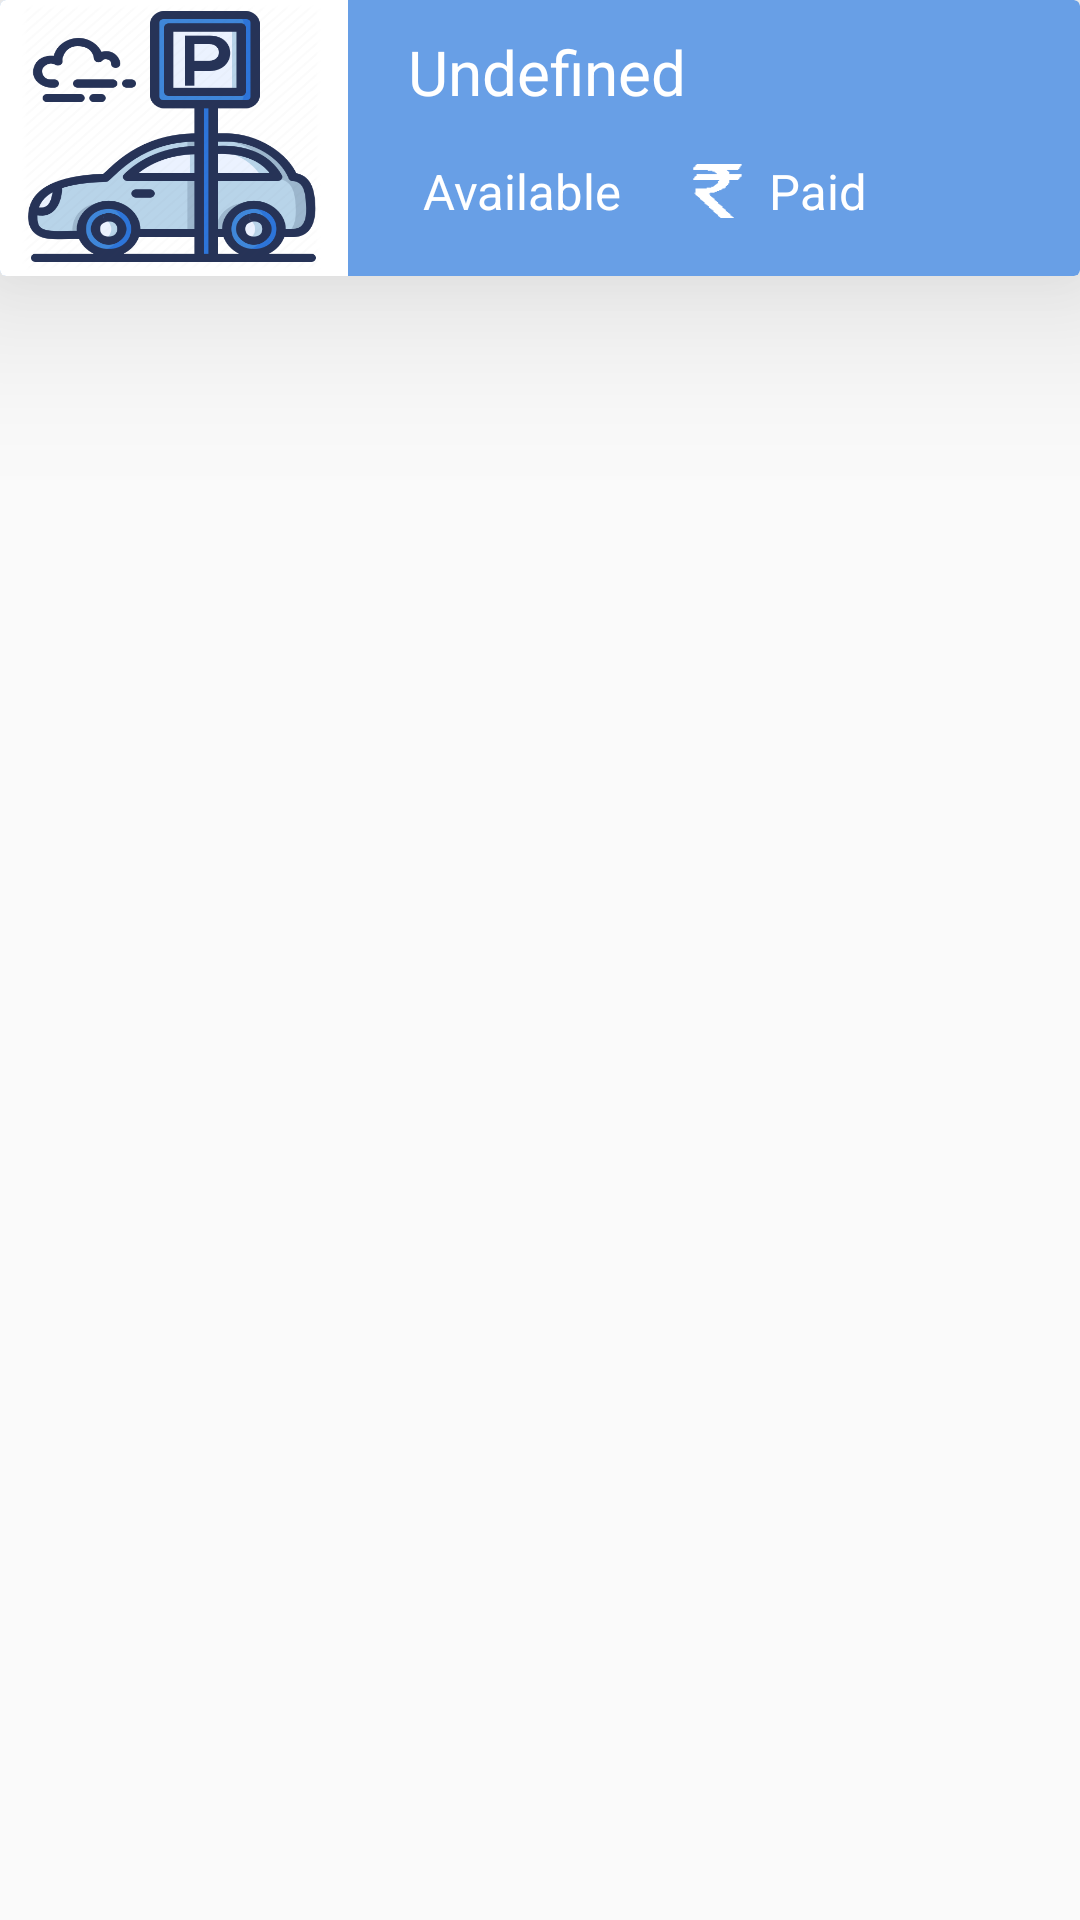

Screen size 1080px x 1920px. Icon name, then its box in pixels as {"x1": x1, "y1": y1, "x2": x2, "y2": y2}:
rupee: {"x1": 693, "y1": 164, "x2": 742, "y2": 218}
